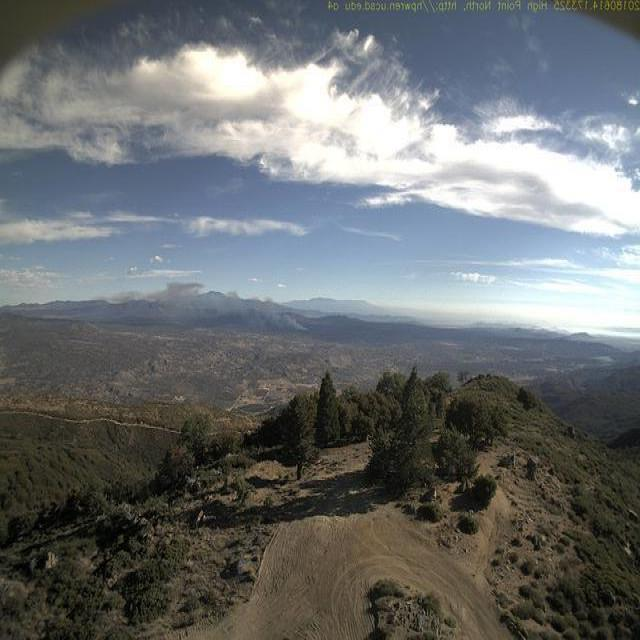Smoke: (113, 272, 310, 334)
